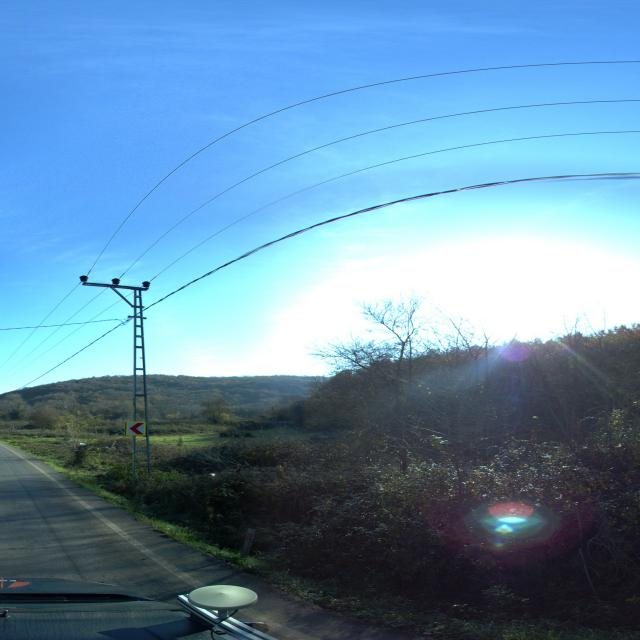Utility Pole Information Plate: (132, 406, 135, 412)
